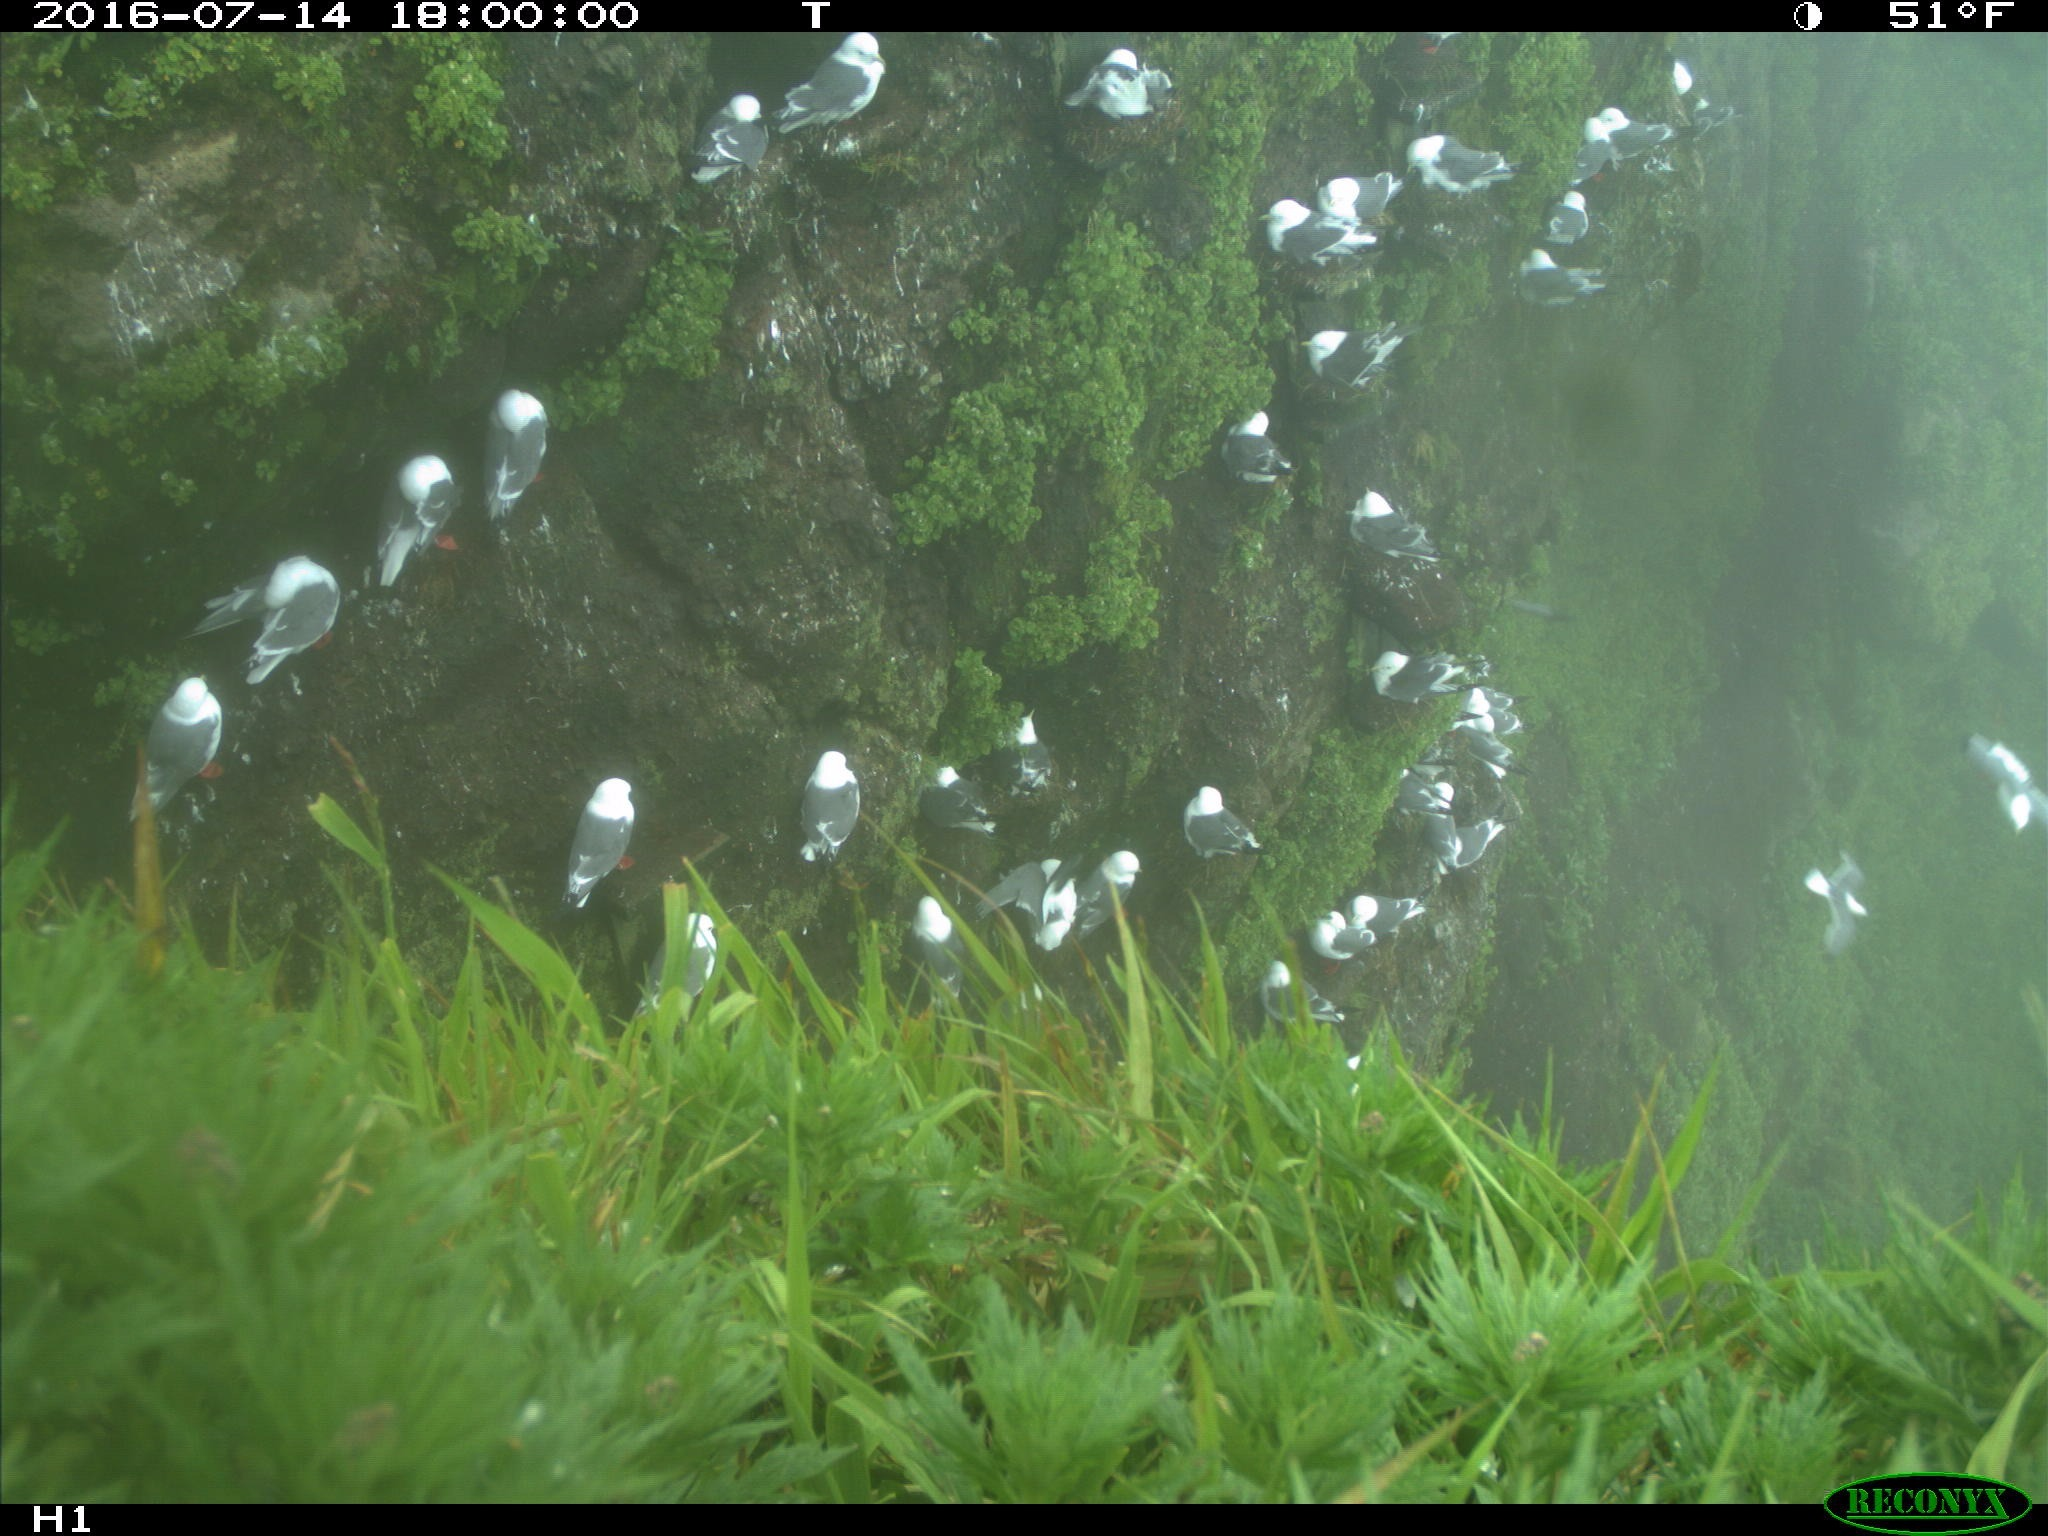Kittiwake: (185, 549, 390, 700), (111, 670, 276, 842), (329, 445, 497, 603), (758, 23, 919, 158), (971, 820, 1109, 976), (548, 742, 658, 928), (1039, 39, 1229, 137), (1250, 939, 1379, 1076), (1780, 836, 1909, 971), (458, 361, 566, 521), (1617, 32, 1772, 140), (1263, 161, 1379, 303), (1946, 708, 2048, 868), (1342, 634, 1484, 742), (1166, 763, 1301, 874), (777, 736, 868, 897), (1264, 316, 1438, 399), (1334, 478, 1467, 584), (895, 863, 984, 1012), (1192, 390, 1313, 495), (681, 66, 772, 203), (993, 678, 1097, 797), (1384, 118, 1538, 195), (645, 908, 743, 1026), (1517, 169, 1630, 269), (1584, 89, 1713, 174), (1292, 879, 1408, 971), (1343, 736, 1480, 808), (1293, 148, 1421, 224), (918, 736, 1003, 849), (1334, 862, 1476, 929), (1080, 824, 1159, 937), (1400, 786, 1496, 878), (1513, 248, 1630, 321), (1447, 665, 1526, 750)
